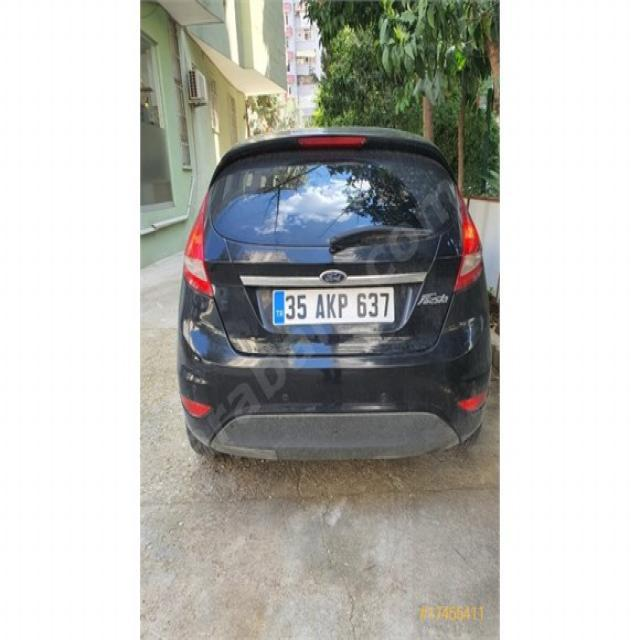plate: (272, 284, 396, 326)
